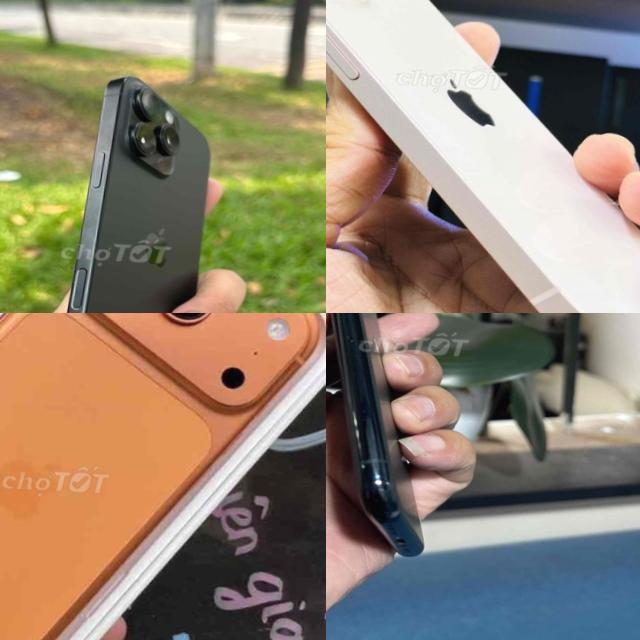gen_11: (330, 313, 423, 556)
gen_12_13: (326, 0, 640, 313)
gen_16: (33, 64, 231, 313)
gen_17: (0, 313, 326, 640)
